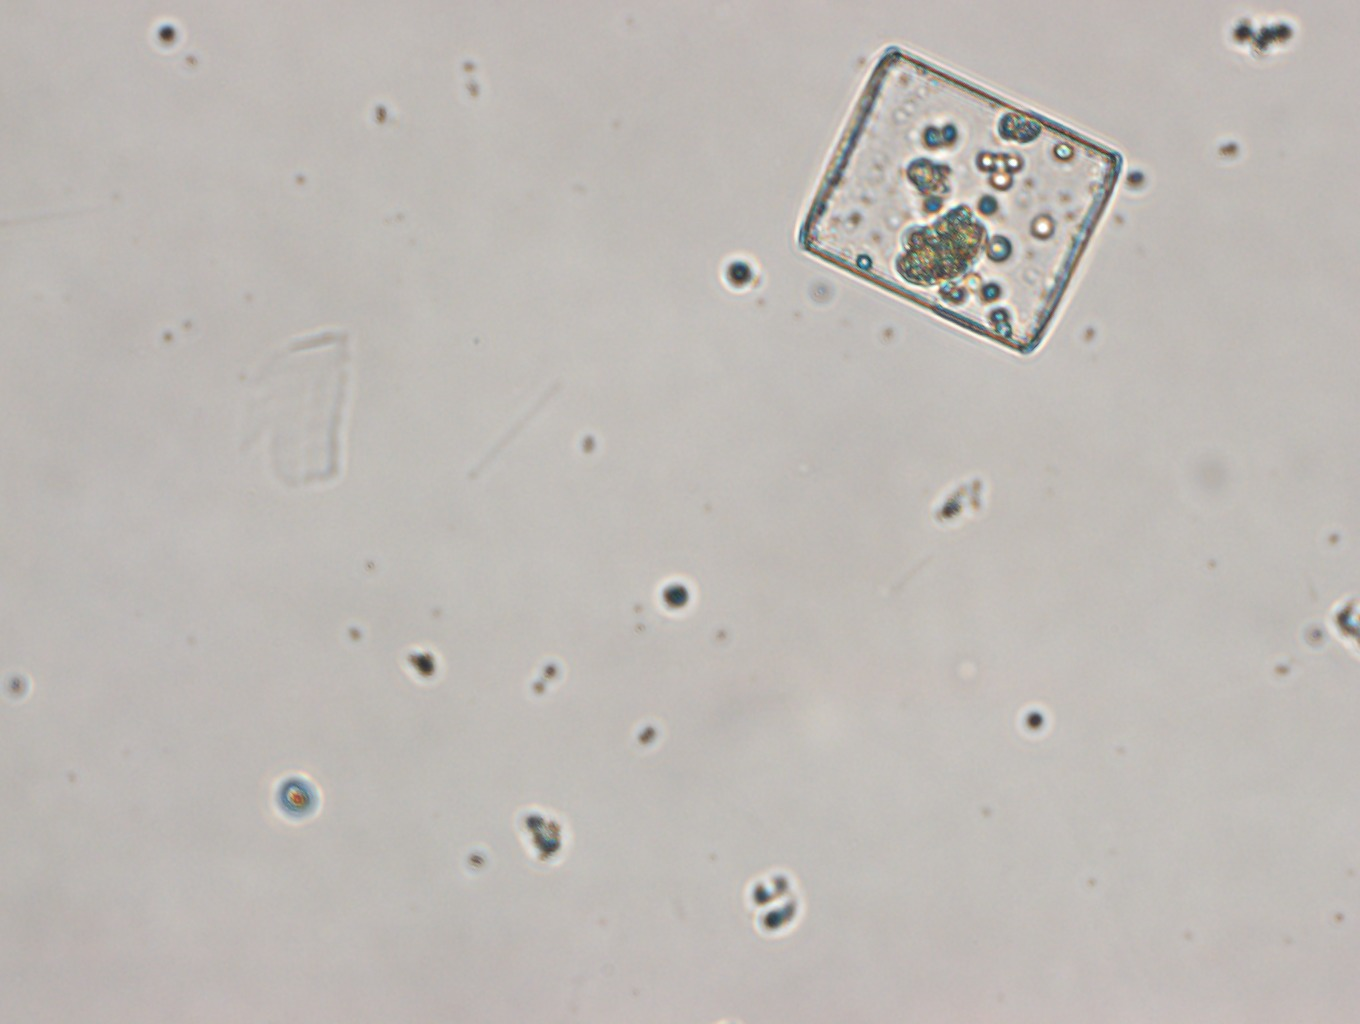guinardia flaccida: (793, 41, 1123, 361)
